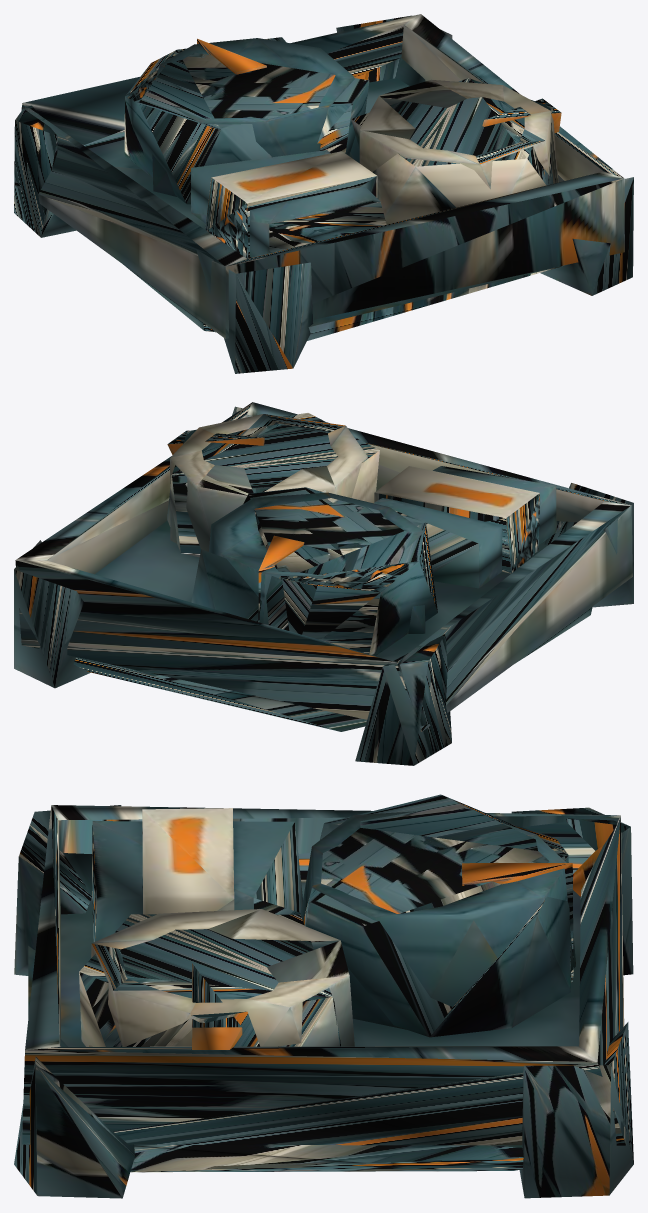
File: source_cable-lod1.6791b208a1b8.glb
3 views of the same model, one above another, from view 1: azimuth 30°, elevation 25°; view 2: azimuth 150°, elevation 25°; view 3: azimuth 270°, elevation 25° (orthographic). The views are drawn at different scales.
Visible parts, largest first — view 1: geometry_0; view 2: geometry_0; view 3: geometry_0.
Boxes of the visible parts, box(x1,y1,x2,y2) form: geometry_0: box(14, 14, 633, 373); geometry_0: box(14, 402, 633, 765); geometry_0: box(14, 794, 633, 1198).
Size of the model in its own units: 0.9979 by 0.3332 by 0.9989.
Materials: 1 (1 with a texture image).
